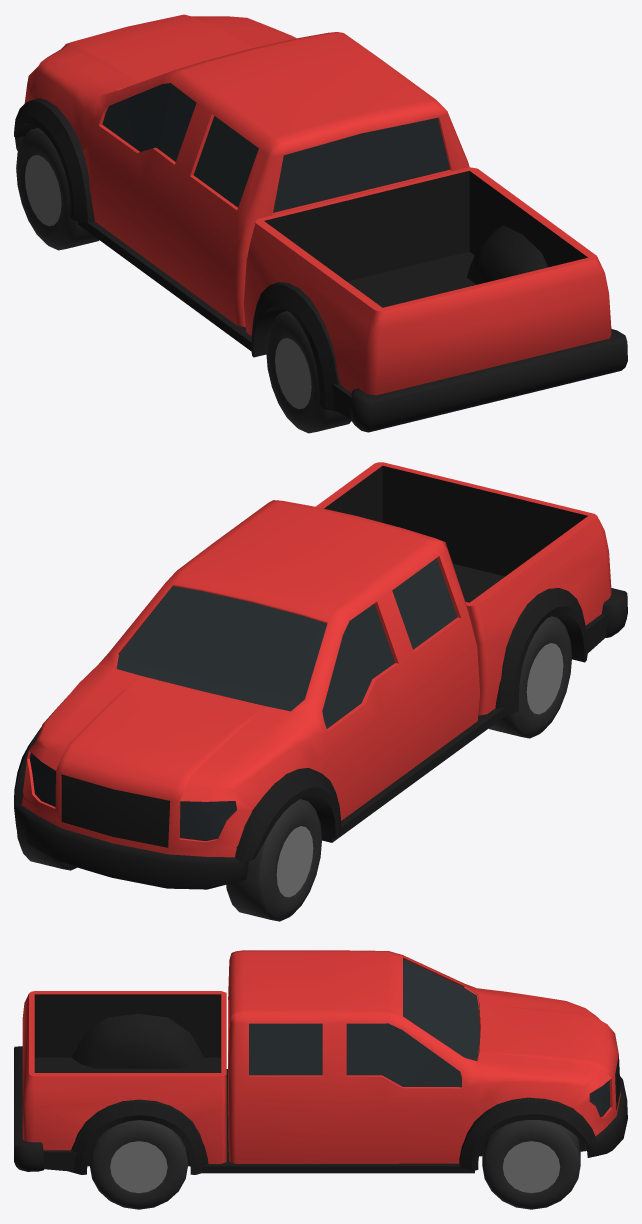
File: Truck.glb
The picture shows the model from 3 angles, top to bottom: view 1: azimuth 30°, elevation 25°; view 2: azimuth 150°, elevation 25°; view 3: azimuth 270°, elevation 25°; orthographic projection. The views are drawn at different scales.
Visible parts, largest first — view 1: Truck; view 2: Truck; view 3: Truck.
Boxes of the visible parts, <box> form: Truck: <box>14,14,627,433</box>; Truck: <box>14,462,627,921</box>; Truck: <box>14,950,627,1209</box>.
Size of the model in its own units: 227 by 189 by 568.
